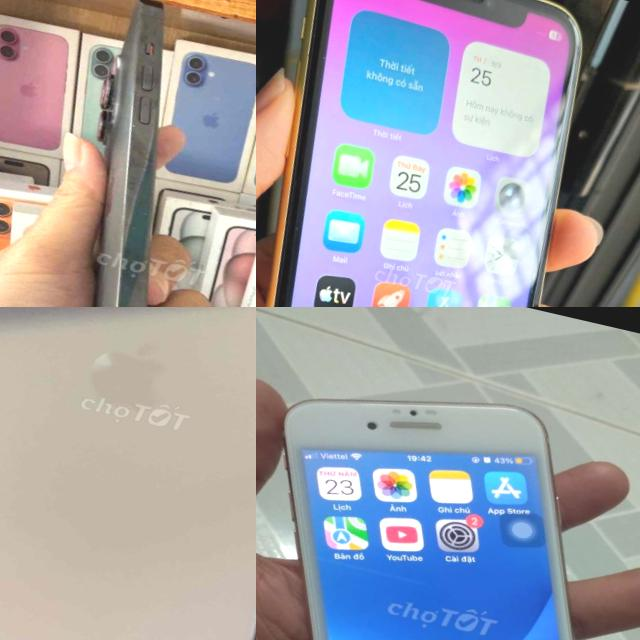gen_11: (256, 0, 624, 307)
gen_12_13: (0, 307, 256, 640)
gen_14: (27, 0, 242, 307)
gen_7_8: (256, 348, 640, 640)
